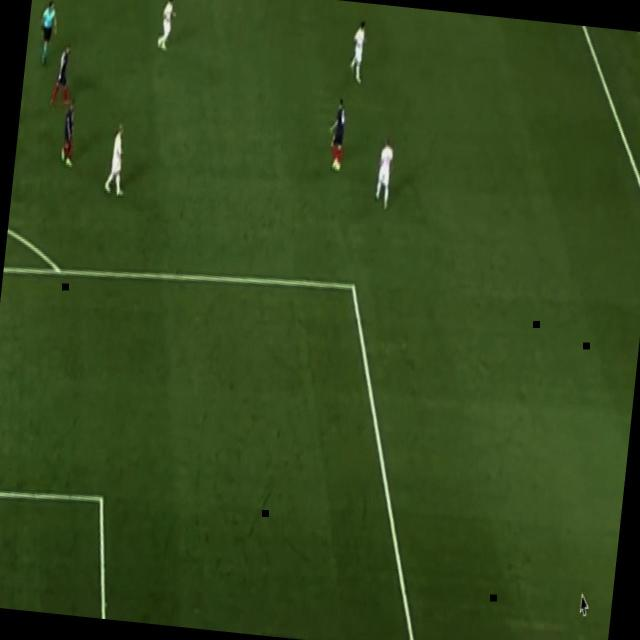player-white: (101, 121, 133, 202), (371, 133, 398, 215), (324, 93, 351, 174), (32, 0, 62, 71), (48, 40, 78, 110), (346, 17, 372, 88), (58, 96, 80, 171), (153, 0, 180, 58), (576, 592, 588, 614)
